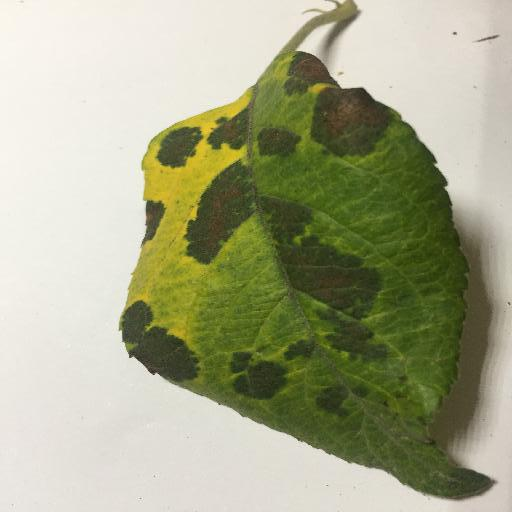Brown_Spot: (285, 244, 372, 304), (195, 172, 245, 250), (317, 95, 389, 144), (138, 343, 197, 382), (239, 356, 282, 400), (327, 332, 390, 358), (263, 201, 307, 233), (290, 54, 326, 85), (159, 134, 189, 162), (124, 305, 147, 335), (144, 203, 162, 236), (220, 123, 247, 145), (321, 387, 341, 416), (264, 132, 290, 152)
